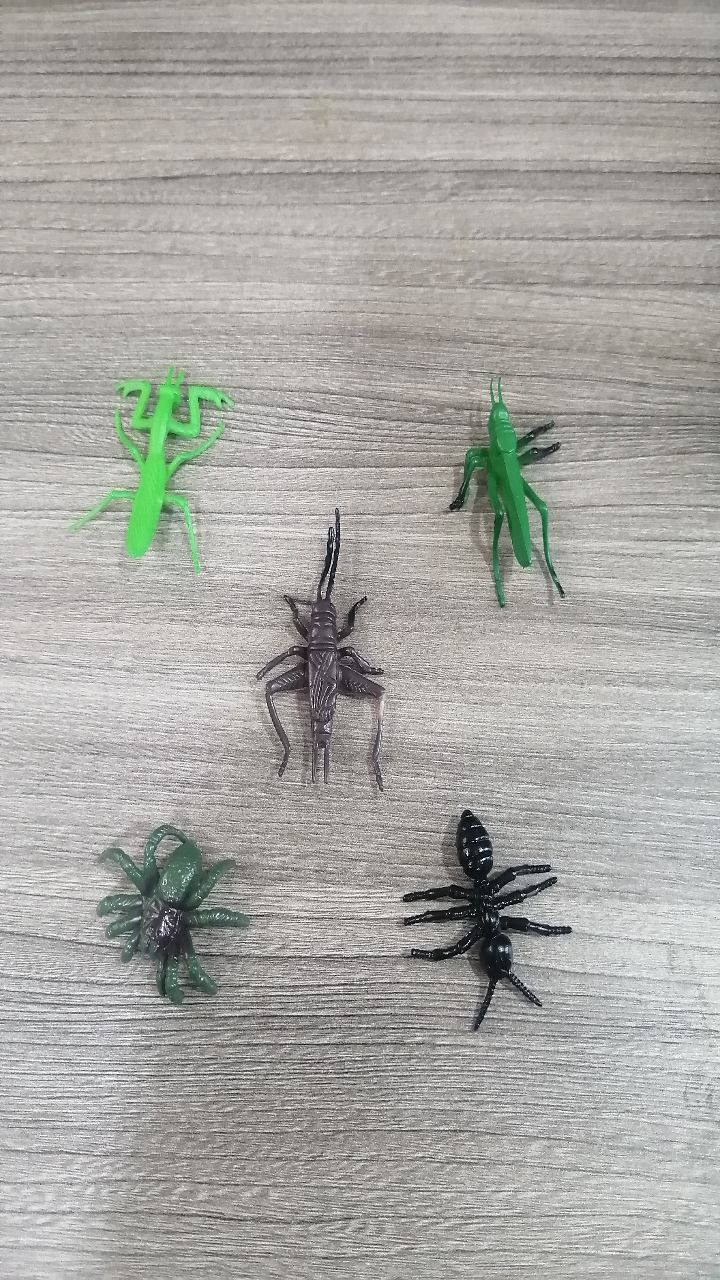intruso: (383, 779, 606, 1055), (248, 508, 415, 803), (49, 326, 234, 592), (64, 792, 268, 1022), (431, 355, 597, 612)
